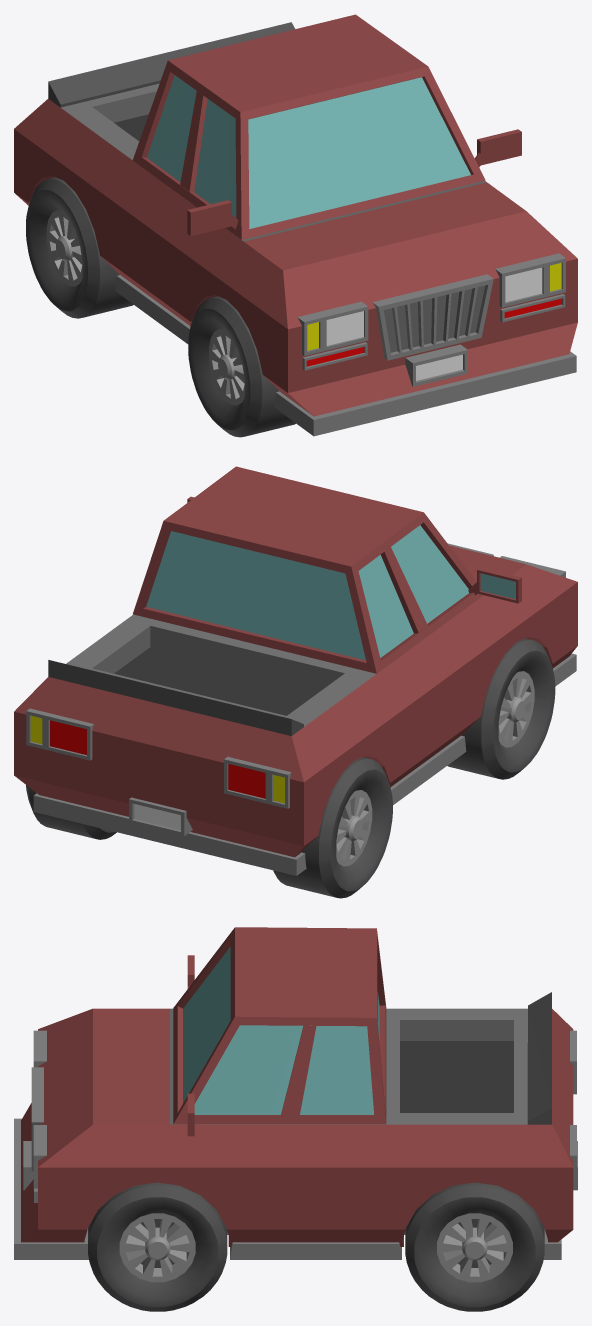
File: Carritopickupx2.fbx
3 renders of one model, top to bottom at view 1: azimuth 30°, elevation 25°; view 2: azimuth 150°, elevation 25°; view 3: azimuth 270°, elevation 25°, orthographic. The views are drawn at different scales.
Parts seen in each view (by area): view 1: polySurface1, pCube6, pCylinder2, polySurface2, pCube2, pCube1, pCube5, pCube3, pCube4; view 2: polySurface1, pCube6, pCylinder2, polySurface2, pCube1, pCube4, pCube5; view 3: polySurface1, pCube6, pCylinder2, polySurface2, pCube1, pCube2, pCube5, pCube4.
Boxes of the visible parts, box(x1,y1,x2,y2) form: polySurface1: box(14, 22, 577, 416); pCube6: box(132, 14, 485, 239); pCylinder2: box(26, 177, 295, 437); polySurface2: box(115, 275, 576, 436); pCube2: box(372, 274, 493, 360); pCube1: box(297, 253, 565, 355); pCube5: box(187, 129, 521, 235); pCube3: box(302, 294, 565, 370); pCube4: box(405, 344, 467, 386); polySurface1: box(14, 545, 577, 857); pCube6: box(133, 466, 483, 673); pCylinder2: box(26, 638, 555, 898); polySurface2: box(33, 653, 576, 875); pCube1: box(26, 556, 565, 808); pCube4: box(129, 797, 192, 836); pCube5: box(187, 496, 521, 603); polySurface1: box(21, 992, 573, 1246); pCube6: box(173, 927, 386, 1124); pCylinder2: box(88, 1182, 544, 1311); polySurface2: box(14, 1118, 561, 1259); pCube1: box(33, 1030, 576, 1188); pCube2: box(31, 1067, 43, 1171); pCube5: box(187, 955, 194, 1136); pCube4: box(23, 1141, 577, 1190).
Size of the model in its own units: 3.07 by 2.46 by 4.63.
